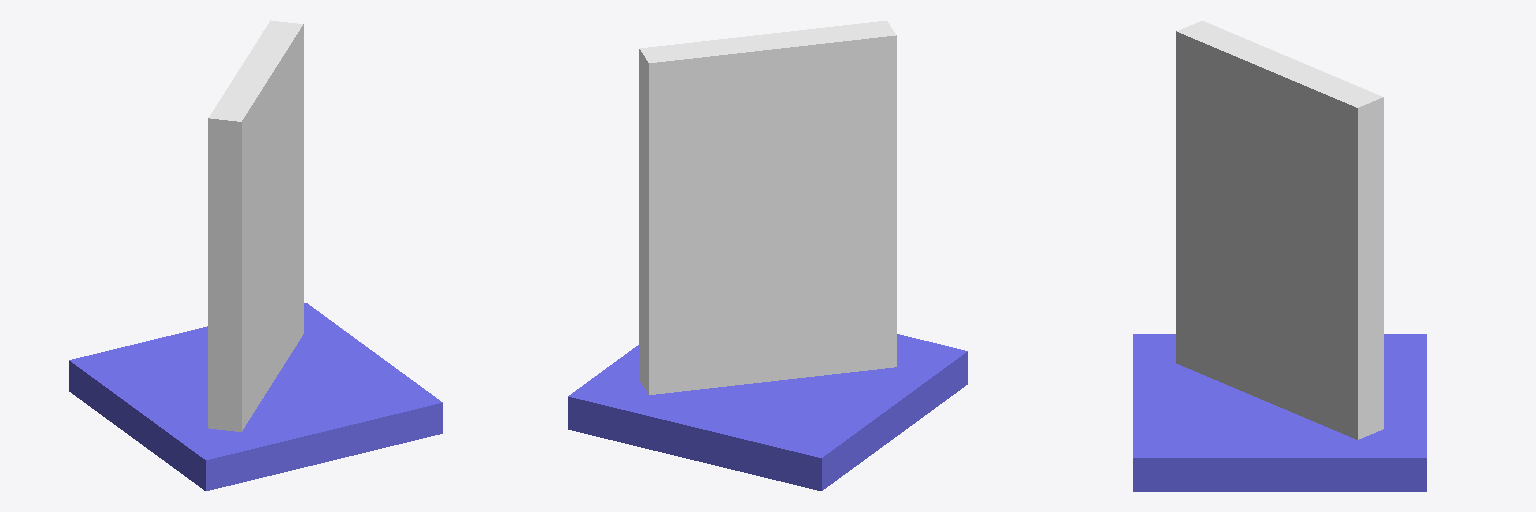
robot.urdf — mirror_piece:
<?xml version="1.0"?>
<robot name="mirror_piece">

  <link name="base_link">
    <visual>
      <origin xyz="0 0 0.005" rpy="0 0 0"/>
      <geometry>
        <box size="0.08 0.08 0.01"/>
      </geometry>
      <material name="mirror_piece_base_material">
        <color rgba="0.5 0.5 1 1"/>
      </material>
    </visual>
    <collision>
      <origin xyz="0 0 0.005" rpy="0 0 0"/>
      <geometry>
        <box size="0.08 0.08 0.01"/>
      </geometry>
    </collision>
  </link>


  <link name="mirror_piece_body">
    <visual>
      <origin xyz="0 0 0.060000000000000005" rpy="0 0 0.7853981633974483"/>
      <geometry>
        <box size="0.07 0.01 0.1"/>
      </geometry>
      <material name="mirror_piece_body_material">
        <color rgba="1 1 1 1"/>
        <specular>1 1 1 1</specular>
      </material>
    </visual>
    <collision>
      <origin xyz="0 0 0.060000000000000005" rpy="0 0 0.7853981633974483"/>
      <geometry>
        <box size="0.07 0.01 0.1"/>
      </geometry>
    </collision>
  </link>


  <joint name="base_to_mirror_piece_body" type="fixed">
    <parent link="base_link"/>
    <child link="mirror_piece_body"/>
    <origin xyz="0 0 0" rpy="0 0 0"/>
  </joint>

</robot>

--- Render facts (derived) ---
3 views of the same robot in one strip: view 1: azimuth 30°, elevation 25°; view 2: azimuth 150°, elevation 25°; view 3: azimuth 270°, elevation 25° (orthographic).
Robot: mirror_piece — 2 links, 1 joints (1 fixed); root link base_link; default pose: every joint at zero.
Links seen in each view (by area): view 1: base_link, mirror_piece_body; view 2: mirror_piece_body, base_link; view 3: mirror_piece_body, base_link.
Boxes of the visible links, x1,y1,x2,y2 form: base_link: [69, 303, 442, 490]; mirror_piece_body: [208, 20, 303, 431]; mirror_piece_body: [639, 21, 896, 394]; base_link: [568, 334, 967, 490]; mirror_piece_body: [1176, 21, 1383, 439]; base_link: [1133, 334, 1426, 491].
Size in the robot's own frame: 0.08 by 0.08 by 0.11 metres.
Geometry: primitives only (box / cylinder / sphere), no mesh files.